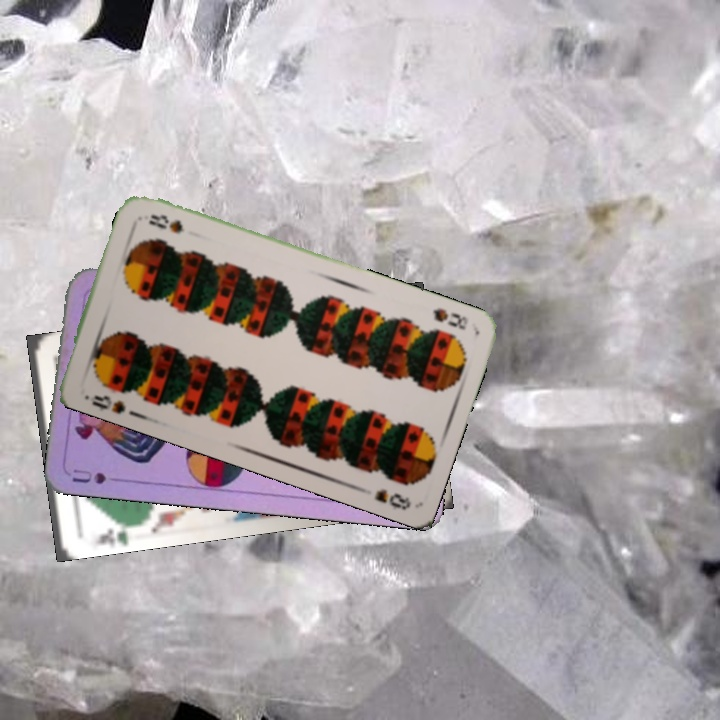GK: (91, 518, 137, 547)
S8: (428, 304, 471, 333), (87, 391, 128, 416)
SU: (68, 465, 109, 487)
